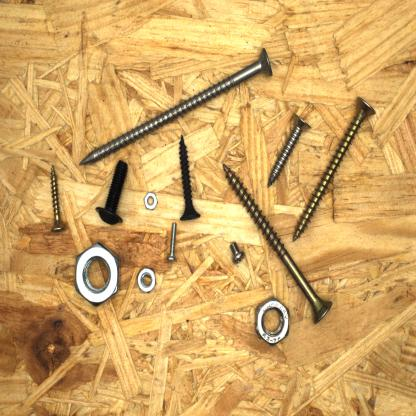screw: (76, 44, 276, 170), (221, 159, 336, 328), (290, 92, 378, 244), (264, 108, 314, 192), (93, 158, 131, 228), (177, 131, 202, 223), (45, 162, 70, 235), (226, 237, 247, 267), (165, 219, 178, 265)
